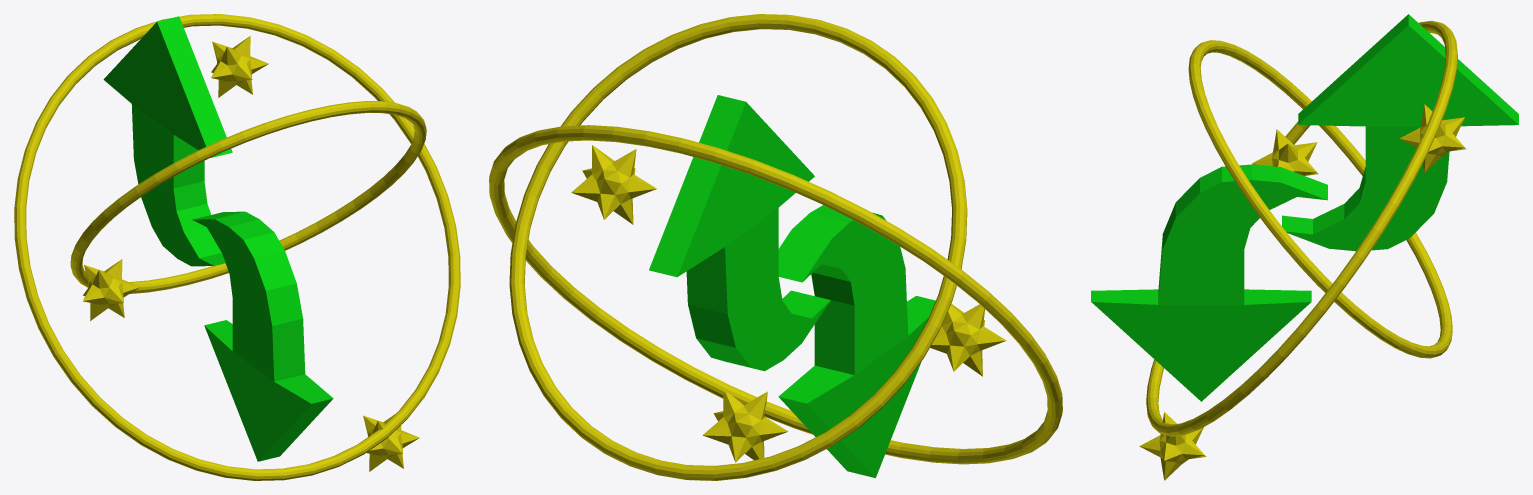
The model's file is UpsetItem.fbx.
3 views of the same model, side by side, from view 1: azimuth 30°, elevation 25°; view 2: azimuth 150°, elevation 25°; view 3: azimuth 270°, elevation 25° (orthographic). The views are drawn at different scales.
Visible parts, largest first — view 1: Cube; view 2: Cube; view 3: Cube.
Boxes of the visible parts, x1,y1,x2,y2 form: Cube: (14, 14, 460, 480); Cube: (489, 14, 1062, 480); Cube: (1091, 14, 1518, 480).
Size of the model in its own units: 352 by 313 by 302.
